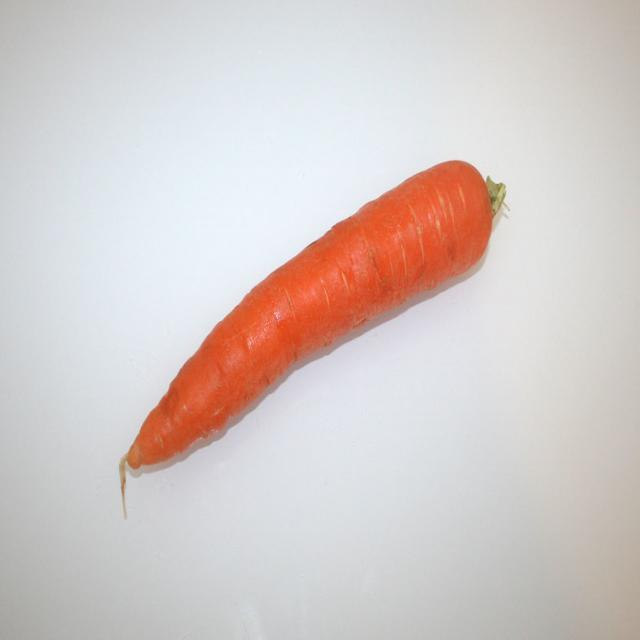Carrot: (118, 161, 512, 519)
